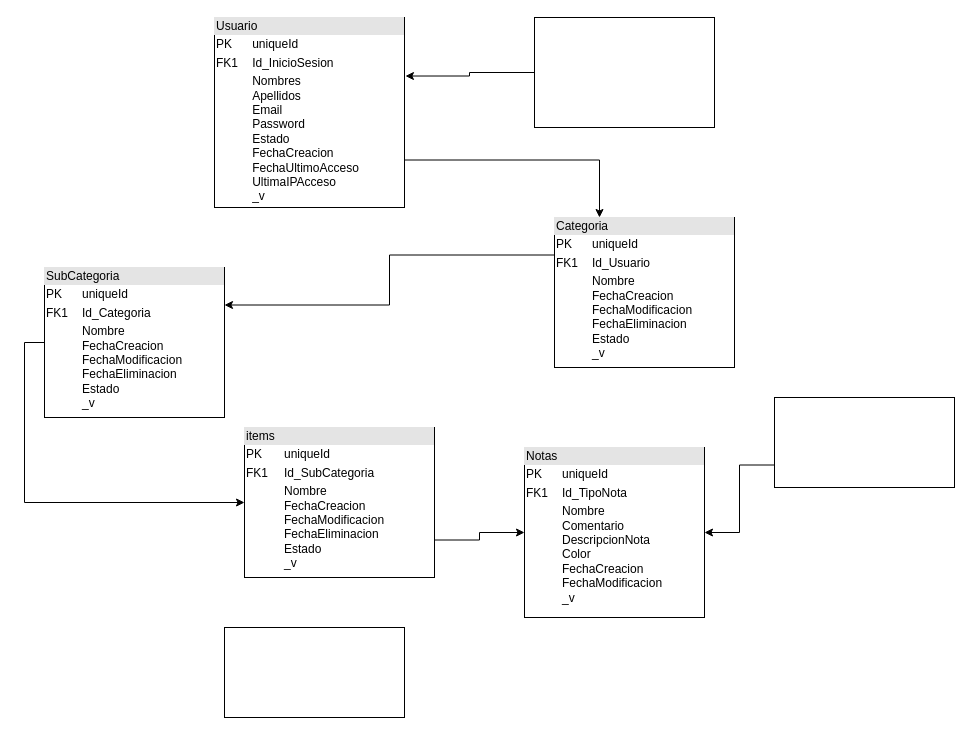
Image size: 972x735. Some labels were removed from this diagram. The shapes that lost their labels are listed below. From the top down, each one's centre as x and y in pixels, then its label:
the point at 624,72: TipoInicioSesion PK uniqueId Nombre Estado _v
the point at 864,442: TipoNota PK uniqueId Nombre Estado _v
the point at 314,672: TipoDescarga PK uniqueId Nombre Estado _v
